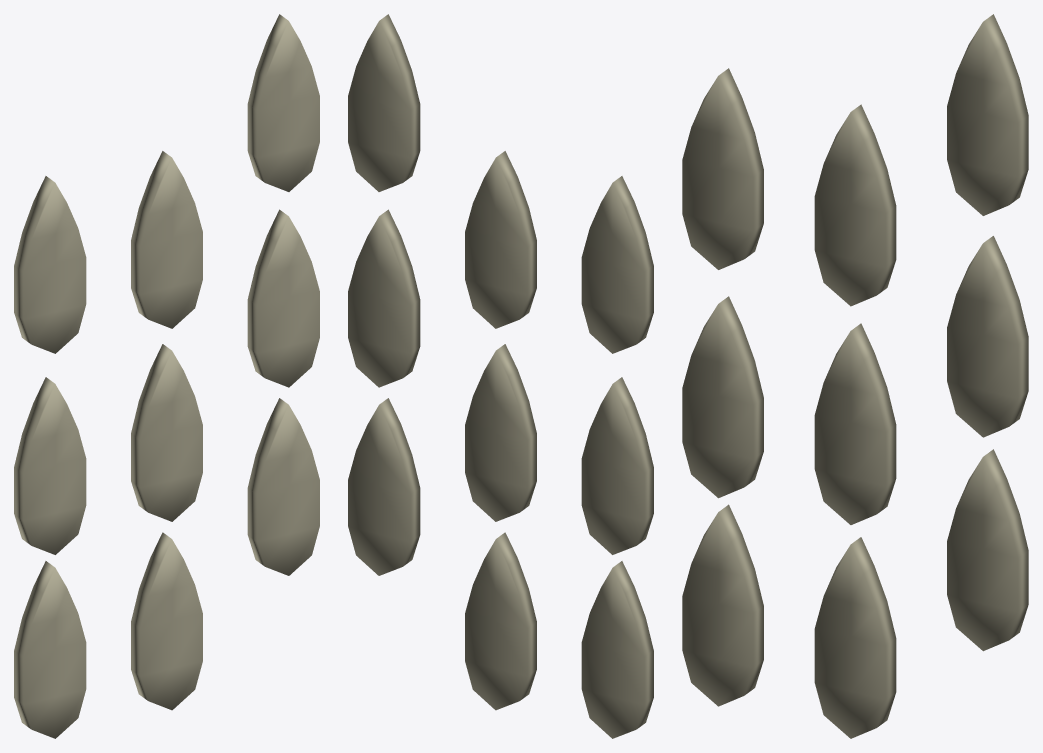
The model's file is semillas.fbx.
3 views of the same model, side by side, from view 1: azimuth 30°, elevation 25°; view 2: azimuth 150°, elevation 25°; view 3: azimuth 330°, elevation 25° (orthographic). The views are drawn at different scales.
Visible parts, largest first — view 1: Setas:pPlane1, pPlane8, pPlane1, pPlane2, pPlane5, pPlane7, pPlane6, pPlane4, pPlane3; view 2: Setas:pPlane1, pPlane5, pPlane8, pPlane1, pPlane2, pPlane7, pPlane6, pPlane4, pPlane3; view 3: pPlane3, pPlane4, pPlane6, pPlane1, pPlane8, pPlane2, pPlane5, pPlane7, Setas:pPlane1.
Part boxes in pixels (x1,y1,x2,y2): Setas:pPlane1: (14,377,86,554); pPlane8: (247,398,319,575); pPlane1: (14,176,86,353); pPlane2: (14,561,86,738); pPlane5: (247,209,319,387); pPlane7: (247,14,319,191); pPlane6: (131,344,202,521); pPlane4: (131,532,202,710); pPlane3: (131,151,202,328); Setas:pPlane1: (581,377,653,554); pPlane5: (348,209,420,387); pPlane8: (348,398,420,575); pPlane1: (581,176,653,353); pPlane2: (581,561,653,738); pPlane7: (348,14,420,191); pPlane6: (465,344,536,521); pPlane4: (465,532,536,710); pPlane3: (465,151,536,328); pPlane3: (814,104,896,306); pPlane4: (814,537,896,738); pPlane6: (814,323,896,524); pPlane1: (682,68,763,269); pPlane8: (947,449,1028,651); pPlane2: (682,504,763,706); pPlane5: (947,236,1028,437); pPlane7: (947,14,1028,215); Setas:pPlane1: (682,296,763,498).
Bounding box in the file's own units: 5.07 × 10.82 × 0.28.
